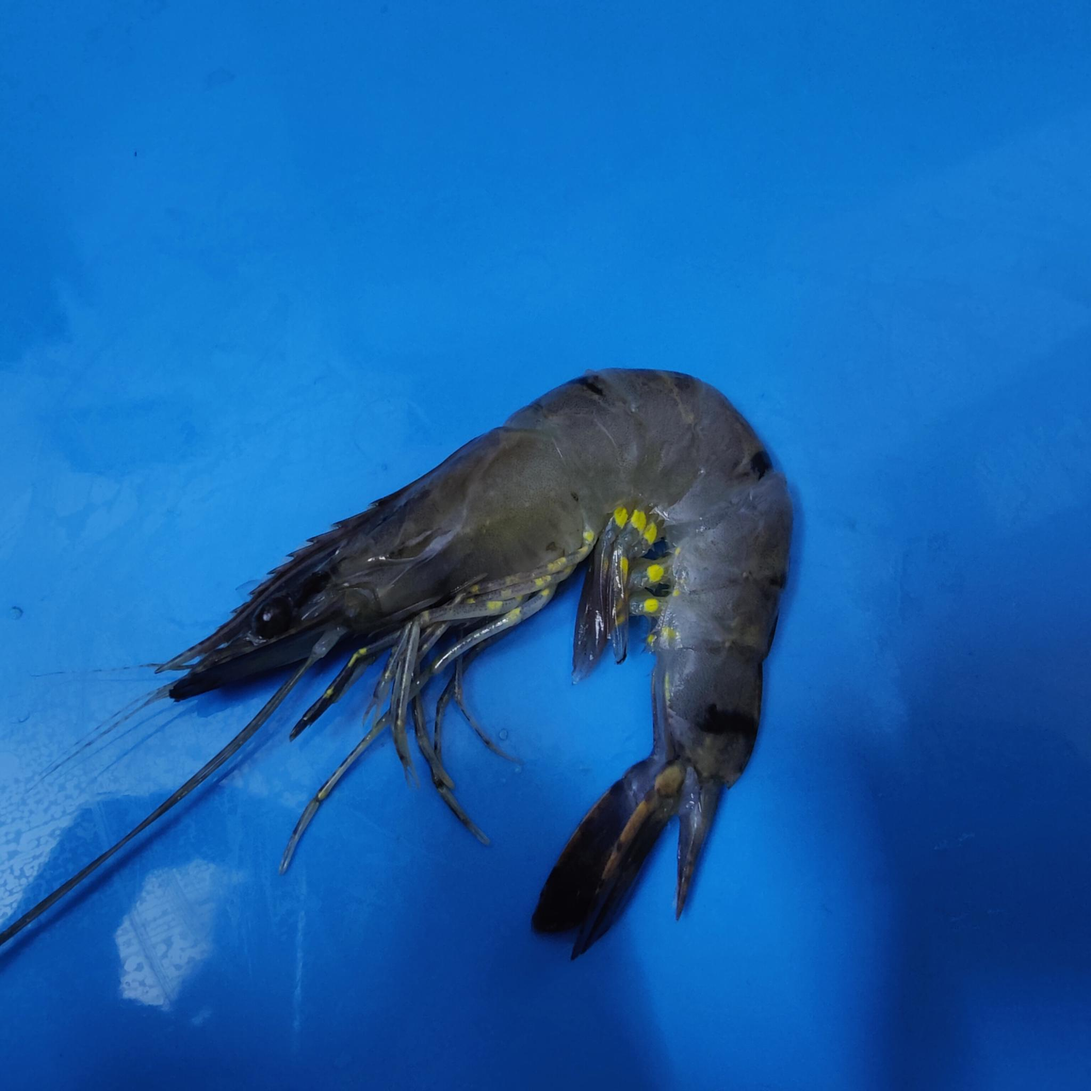whitespot: (345, 392, 644, 570)
